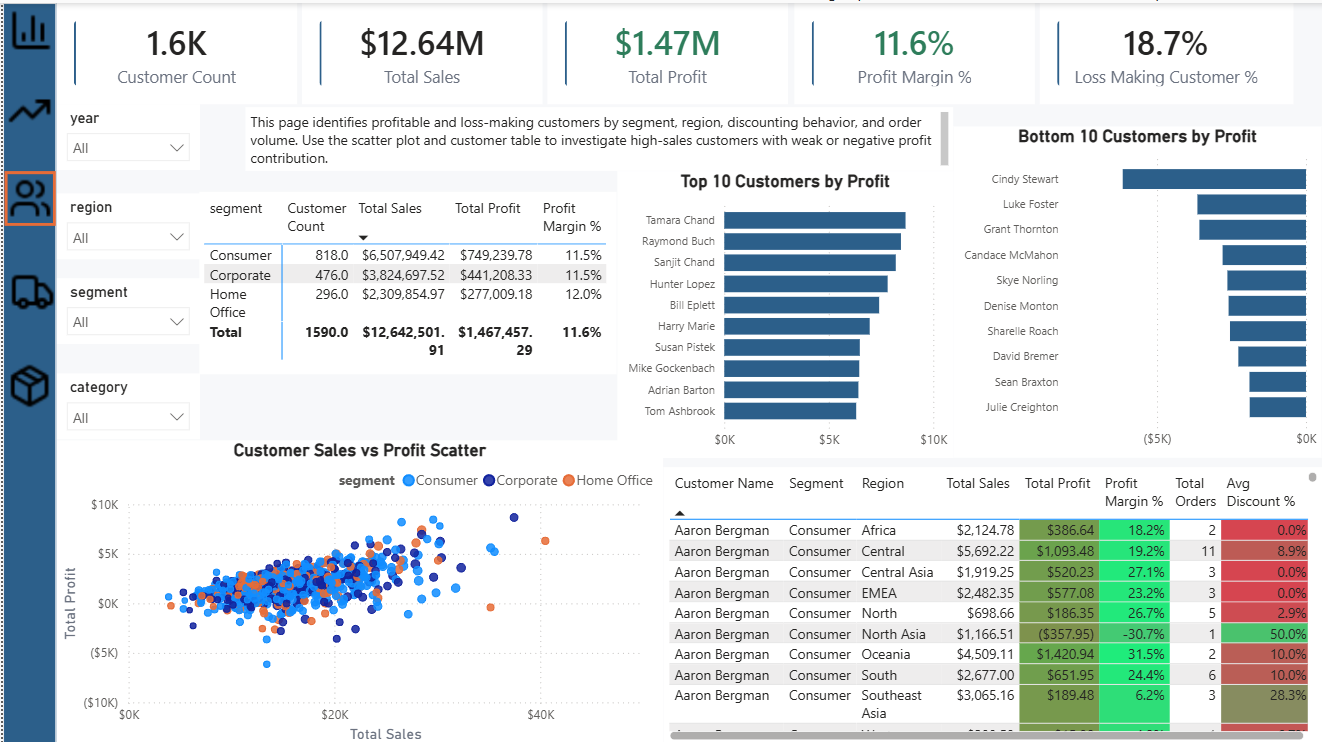

The page's visual inventory and layout, read from the dashboard file:
{"tool":"powerbi","page":{"name":"Customer Performance","canvas":[1280,720],"ordinal":2},"visuals":[{"type":"shape","box":[0,0,51.7,720],"z":0,"group":"g1"},{"type":"cardVisual","fields":{"Data":["_Measures.Customer Count"]},"box":[51.3,0,233.2,98.4],"z":0},{"type":"actionButton","box":[1.7,0,51.7,53.3],"z":1000,"group":"g1"},{"type":"cardVisual","fields":{"Data":["_Measures.Total Sales"]},"box":[289.8,0,233.2,98.4],"z":1000},{"type":"cardVisual","fields":{"Data":["_Measures.Total Profit"]},"box":[528.4,0,233.2,98.4],"z":2000},{"type":"actionButton","box":[0,78.3,51.7,53.3],"z":2000,"group":"g1"},{"type":"cardVisual","fields":{"Data":["_Measures.Profit Margin %"]},"box":[766.9,0,233.2,98.4],"z":3000},{"type":"actionButton","box":[1.7,163.3,50,53.3],"z":3000,"group":"g1"},{"type":"cardVisual","fields":{"Data":["_Measures.Loss Making Customer %"]},"box":[1005.4,0,246,98.4],"z":4000},{"type":"actionButton","box":[3.3,253.3,51.7,53.3],"z":4000,"group":"g1"},{"type":"slicer","fields":{"Values":["dim.date.year"]},"box":[51.3,98.4,139,64.2],"z":5000},{"type":"actionButton","box":[0,345,51.7,53.3],"z":5000,"group":"g1"},{"type":"slicer","fields":{"Values":["dim.geography.region"]},"box":[51.3,184,139,64.2],"z":6000},{"type":"slicer","fields":{"Values":["dim.customer.segment"]},"box":[51.3,267.4,139,64.2],"z":7000},{"type":"slicer","fields":{"Values":["dim.product.category"]},"box":[51.3,359.4,139,64.2],"z":8000},{"type":"clusteredBarChart","title":"Top 10 Customers by Profit","fields":{"Y":["_Measures.Total Profit"],"Category":["dim.customer.customer_name"]},"box":[595.7,162.9,325.7,278.6],"z":9000},{"type":"clusteredBarChart","title":"Bottom 10 Customers by Profit","fields":{"Y":["_Measures.Total Profit"],"Category":["dim.customer.customer_name"]},"box":[921.4,120,357.1,321.4],"z":10000},{"type":"scatterChart","title":"Customer Sales vs Profit Scatter","fields":{"X":["_Measures.Total Sales"],"Y":["_Measures.Total Profit"],"Size":["_Measures.Total Orders"],"Series":["dim.customer.segment"],"Category":["dim.customer.customer_name"]},"box":[51.3,423.5,588.2,297.3],"z":11000},{"type":"tableEx","fields":{"Values":["dim.customer.customer_name","dim.customer.segment","dim.geography.region","_Measures.Total Sales","_Measures.Total Profit","_Measures.Profit Margin %","_Measures.Total Orders","_Measures.Average Discount"]},"box":[641,450,639,270],"z":12000},{"type":"textbox","box":[235.3,100.5,686.6,62],"z":13000},{"type":"pivotTable","fields":{"Rows":["dim.customer.segment"],"Values":["_Measures.Customer Count","_Measures.Total Sales","_Measures.Total Profit","_Measures.Profit Margin %"]},"box":[190.7,183.7,404.7,176.7],"z":14000},{"type":"group","id":"g1","title":"Group 1","box":[0,0,55,720],"z":14001}]}

Visuals, with their boxes on the page's 1280x720 design canvas (x1, y1, x2, y2). These are canvas units, not pixel positions in the 1322x742 screenshot, which may show the page scaled, cropped or inside an application window:
shape: locate(0, 0, 52, 720)
cardVisual - _Measures.Customer Count: locate(51, 0, 284, 98)
actionButton: locate(2, 0, 53, 53)
cardVisual - _Measures.Total Sales: locate(290, 0, 523, 98)
cardVisual - _Measures.Total Profit: locate(528, 0, 762, 98)
actionButton: locate(0, 78, 52, 132)
cardVisual - _Measures.Profit Margin %: locate(767, 0, 1000, 98)
actionButton: locate(2, 163, 52, 217)
cardVisual - _Measures.Loss Making Customer %: locate(1005, 0, 1251, 98)
actionButton: locate(3, 253, 55, 307)
slicer - dim.date.year: locate(51, 98, 190, 163)
actionButton: locate(0, 345, 52, 398)
slicer - dim.geography.region: locate(51, 184, 190, 248)
slicer - dim.customer.segment: locate(51, 267, 190, 332)
slicer - dim.product.category: locate(51, 359, 190, 424)
"Top 10 Customers by Profit" clusteredBarChart: locate(596, 163, 921, 442)
"Bottom 10 Customers by Profit" clusteredBarChart: locate(921, 120, 1278, 441)
"Customer Sales vs Profit Scatter" scatterChart: locate(51, 424, 640, 721)
tableEx - dim.customer.customer_name x dim.customer.segment: locate(641, 450, 1280, 720)
textbox: locate(235, 100, 922, 162)
pivotTable - dim.customer.segment x _Measures.Customer Count: locate(191, 184, 595, 360)
"Group 1" group: locate(0, 0, 55, 720)
